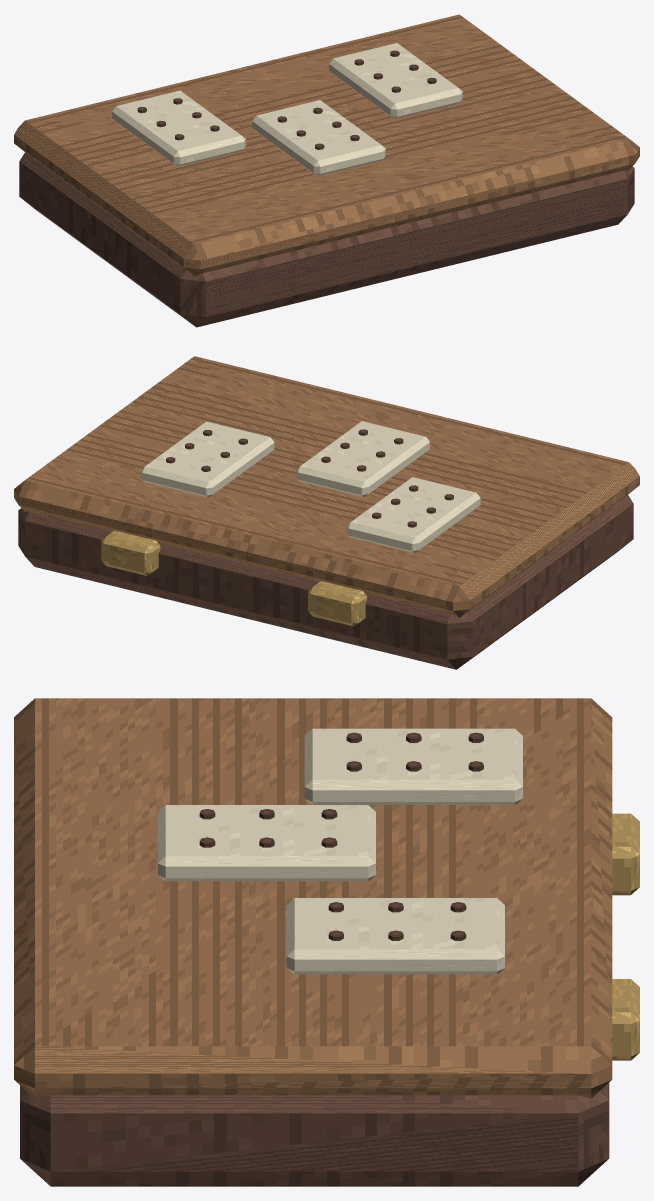
Rendered from domino.glb.
The picture shows the model from 3 angles, top to bottom: view 1: azimuth 30°, elevation 25°; view 2: azimuth 150°, elevation 25°; view 3: azimuth 270°, elevation 25°; orthographic projection. The views are drawn at different scales.
Parts seen in each view (by area): view 1: block_fitted lid, block_game case, block_wooden domino (×3); view 2: block_fitted lid, block_game case, block_wooden domino (×3), block_small catch (×2); view 3: block_fitted lid, block_game case, block_wooden domino (×3), block_small catch (×2).
Boxes of the visible parts, <box> form: block_fitted lid: <box>14,14,639,276</box>; block_game case: <box>19,152,634,327</box>; block_wooden domino (×3): <box>112,43,462,175</box>; block_fitted lid: <box>14,356,639,617</box>; block_game case: <box>18,495,633,669</box>; block_wooden domino (×3): <box>140,421,480,552</box>; block_small catch (×2): <box>101,530,367,626</box>; block_fitted lid: <box>14,698,612,1098</box>; block_game case: <box>20,1082,609,1186</box>; block_wooden domino (×3): <box>158,728,522,974</box>; block_small catch (×2): <box>612,813,639,1060</box>.
Size of the model in its own units: 0.1189 by 0.0262 by 0.086.
Materials: 1 (1 with a texture image).
